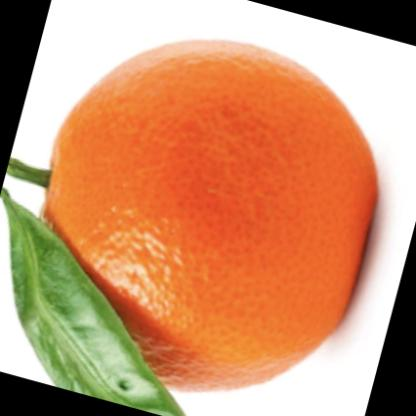fresh: (35, 40, 378, 394)
